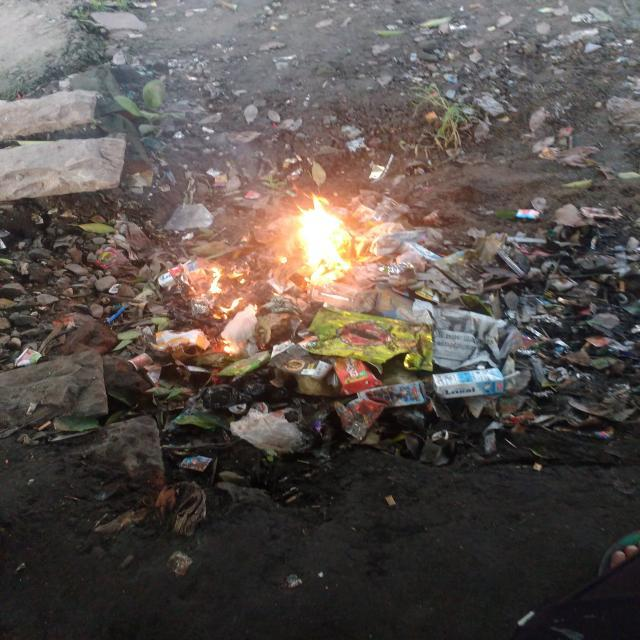Fire: (288, 190, 362, 284)
